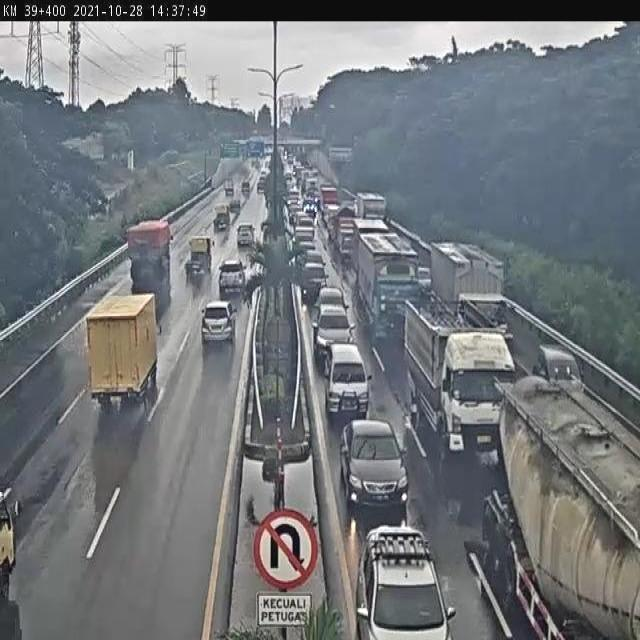Car: (352, 524, 454, 640), (334, 419, 412, 510), (529, 340, 586, 390), (313, 302, 356, 366), (201, 300, 237, 346), (311, 286, 350, 320), (301, 262, 331, 300), (218, 259, 246, 298), (298, 248, 326, 272), (236, 223, 255, 246), (417, 267, 431, 294), (300, 199, 318, 215), (230, 197, 242, 213), (242, 179, 250, 195), (256, 182, 266, 194), (258, 175, 266, 182), (260, 168, 266, 176)
Truck: (463, 372, 640, 640), (406, 304, 516, 473), (86, 291, 162, 406), (430, 242, 515, 332), (355, 232, 425, 341), (124, 218, 175, 280), (350, 218, 391, 279), (183, 235, 215, 281), (355, 192, 386, 221), (337, 225, 359, 265), (336, 205, 356, 247), (326, 202, 341, 238), (212, 204, 230, 232), (223, 178, 235, 196)
Van: (322, 342, 374, 416)
